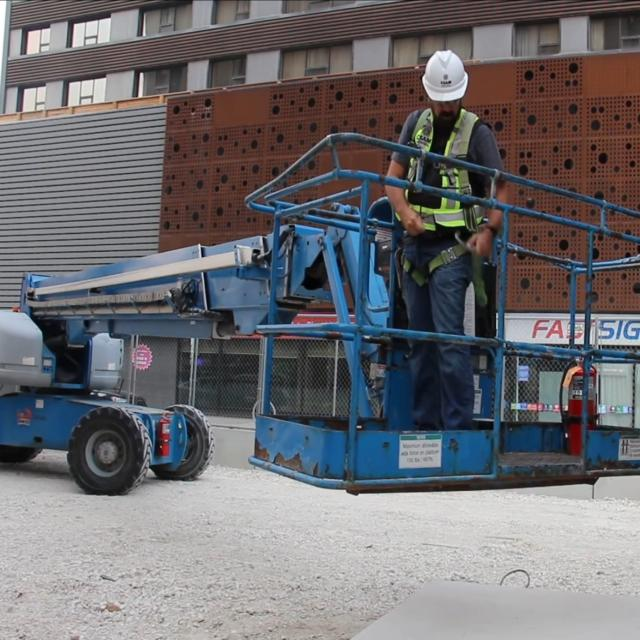2m above platform: (1, 128, 640, 500)
Belt: (412, 108, 481, 282)
worker: (382, 42, 494, 422)
